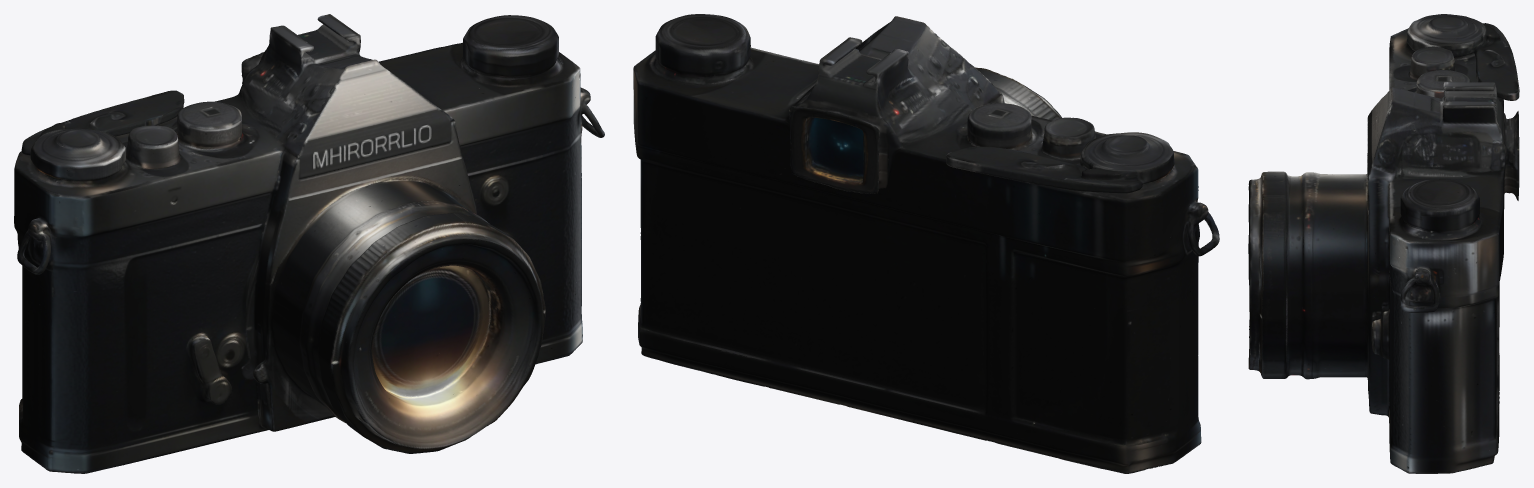
File: Meshy_AI_A_hyper_realistic_pro_0121104702_texture-v2.glb
3 views of the same model, side by side, from view 1: azimuth 30°, elevation 25°; view 2: azimuth 150°, elevation 25°; view 3: azimuth 270°, elevation 25° (orthographic). The views are drawn at different scales.
Bounding box in the file's own units: 2 × 1.15 × 0.9858.
1 material, 1 textured.
